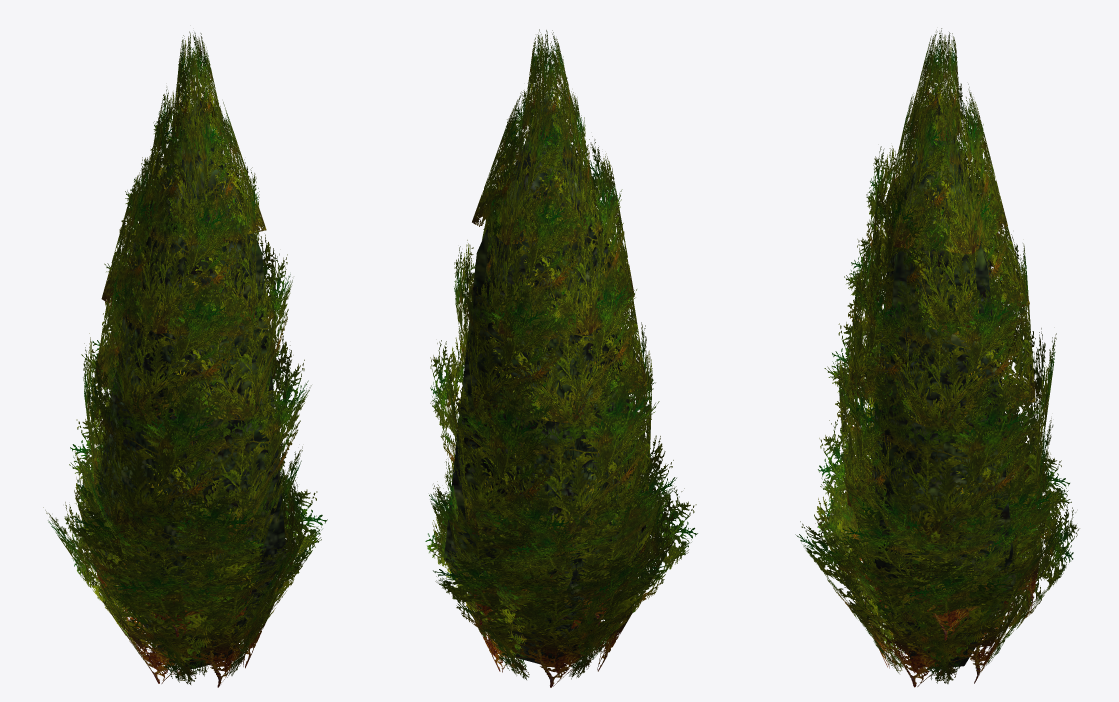
The model's file is cypress.glb.
The picture shows the model from 3 angles, left to right: view 1: azimuth 30°, elevation 25°; view 2: azimuth 150°, elevation 25°; view 3: azimuth 270°, elevation 25°; orthographic projection.
Visible parts, largest first — view 1: tree_cypress_sm_branches, tree_cypress_sm; view 2: tree_cypress_sm_branches, tree_cypress_sm; view 3: tree_cypress_sm_branches, tree_cypress_sm.
Part boxes in pixels (x1,y1,x2,y2): tree_cypress_sm_branches: (43,31,327,687); tree_cypress_sm: (94,99,286,669); tree_cypress_sm_branches: (425,29,697,687); tree_cypress_sm: (444,92,646,665); tree_cypress_sm_branches: (795,28,1079,687); tree_cypress_sm: (869,94,1015,667).
Size of the model in its own units: 3.2 by 6.7 by 3.19.
2 materials, 2 textured.
